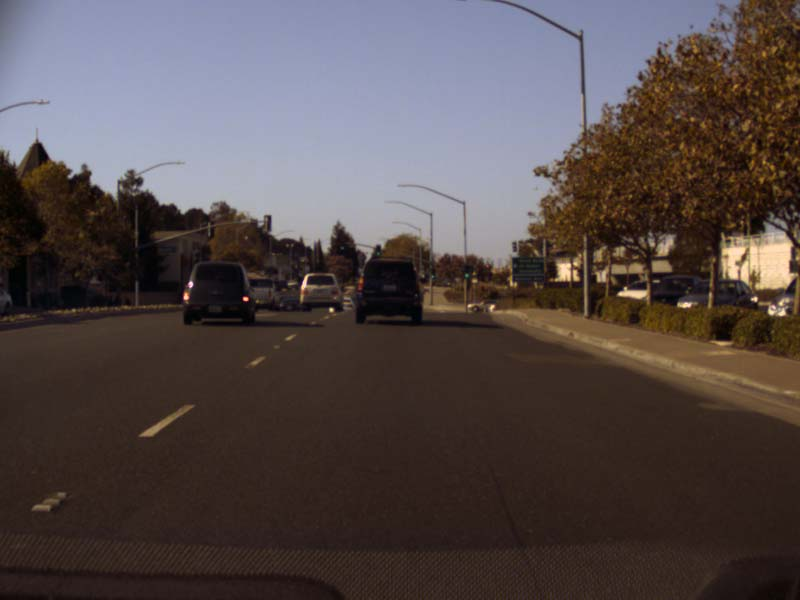Green: (464, 266, 469, 278), (375, 245, 380, 256), (339, 239, 344, 249), (430, 268, 434, 278)
Red: (485, 263, 489, 273)
